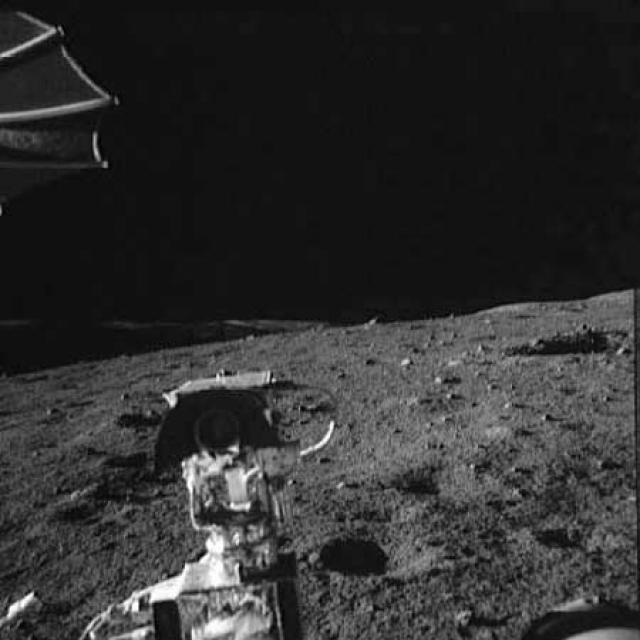artifact: (90, 357, 344, 639), (0, 4, 119, 224)
crater: (324, 533, 426, 573), (513, 330, 623, 357), (382, 459, 469, 490)
rock: (6, 582, 48, 628)
